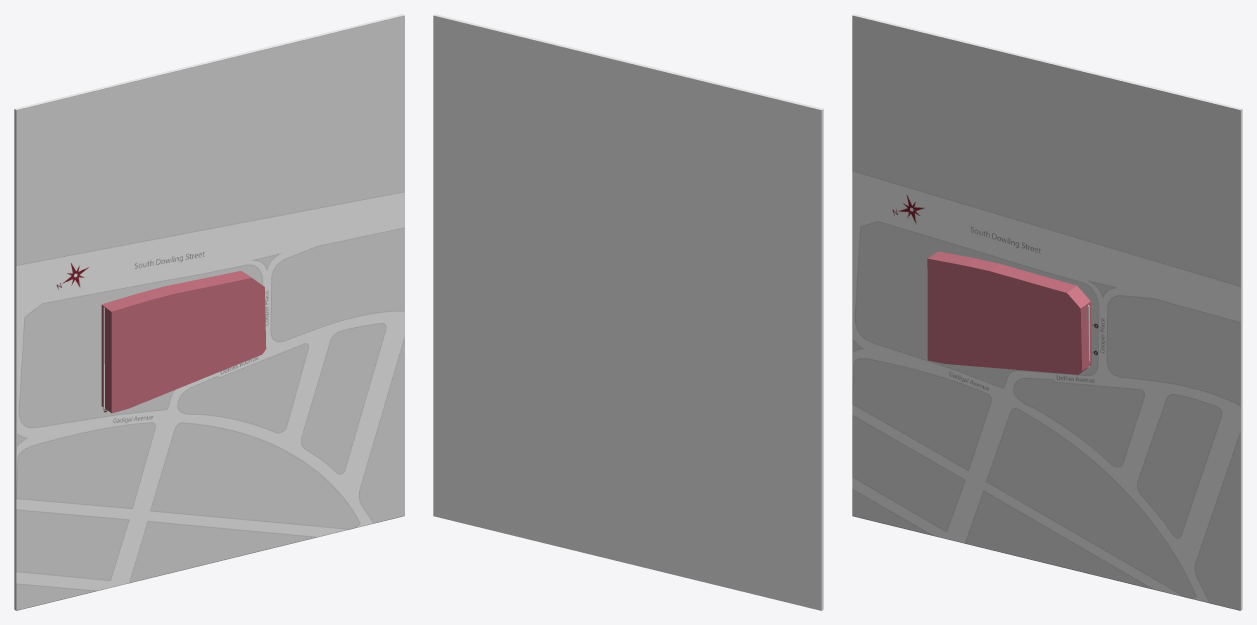
3 views of the same model, side by side, from view 1: azimuth 30°, elevation 25°; view 2: azimuth 150°, elevation 25°; view 3: azimuth 330°, elevation 25° (orthographic).
Parts seen in each view (by area): view 1: SITE_1_Site, BUILDING_2_Building, ExtrudeMesh; view 2: ExtrudeMesh; view 3: SITE_1_Site, BUILDING_2_Building, ExtrudeMesh.
Boxes of the visible parts, x1,y1,x2,y2 form: SITE_1_Site: (16,15,404,610); BUILDING_2_Building: (101,271,266,413); ExtrudeMesh: (14,14,404,610); ExtrudeMesh: (433,14,823,610); SITE_1_Site: (852,15,1240,610); BUILDING_2_Building: (927,251,1091,374); ExtrudeMesh: (852,14,1242,610).
Size of the model in its own units: 2230 by 120 by 2747.
